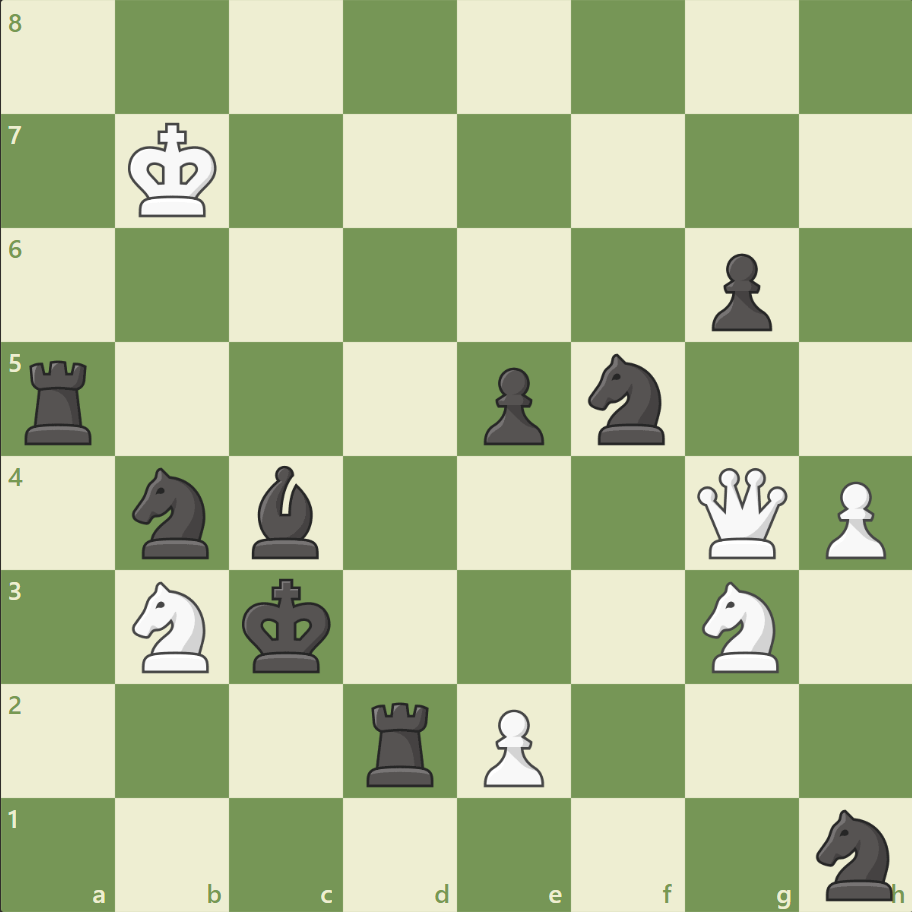K: (124, 117, 224, 225)
N: (124, 575, 222, 677), (692, 575, 789, 677)
P: (474, 700, 549, 791), (815, 473, 889, 564)
Q: (691, 463, 790, 562)
b: (244, 460, 328, 563)
k: (238, 571, 338, 679)
n: (124, 461, 222, 564), (579, 348, 676, 450), (806, 802, 903, 904)
p: (701, 246, 776, 337), (474, 359, 549, 450)
r: (19, 352, 102, 449), (360, 693, 442, 790)
